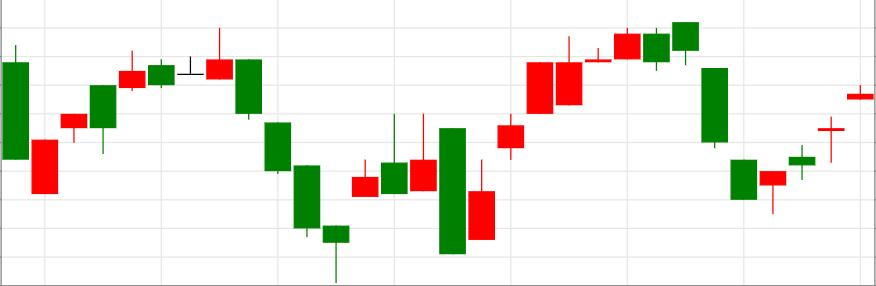three_black_crows_fall: (438, 21, 758, 256), (30, 27, 321, 237)
